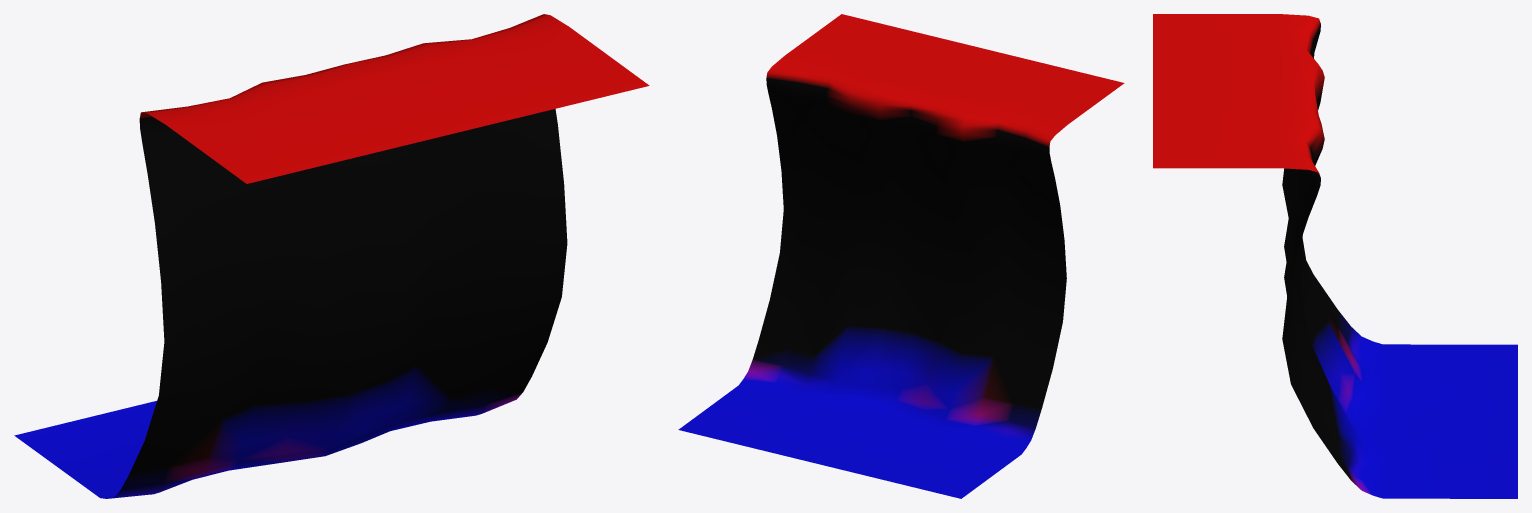
The model's file is GroundCliff01A 2M for Water Background.fbx.
The picture shows the model from 3 angles, left to right: view 1: azimuth 30°, elevation 25°; view 2: azimuth 150°, elevation 25°; view 3: azimuth 270°, elevation 25°; orthographic projection. The views are drawn at different scales.
Parts seen in each view (by area): view 1: GroundCliff01A 2M for Water Background; view 2: GroundCliff01A 2M for Water Background; view 3: GroundCliff01A 2M for Water Background.
Boxes of the visible parts, x1,y1,x2,y2 form: GroundCliff01A 2M for Water Background: [14, 14, 649, 498]; GroundCliff01A 2M for Water Background: [678, 14, 1124, 498]; GroundCliff01A 2M for Water Background: [1153, 14, 1517, 498].
Size of the model in its own units: 2 by 2 by 2.
